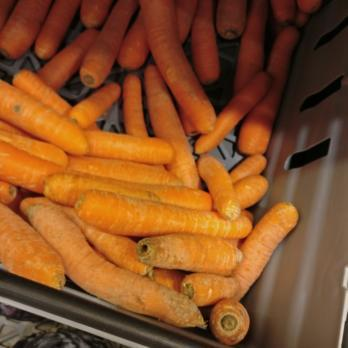Carrot: (2, 83, 297, 287), (0, 0, 318, 79), (102, 290, 227, 329), (205, 285, 252, 345)
